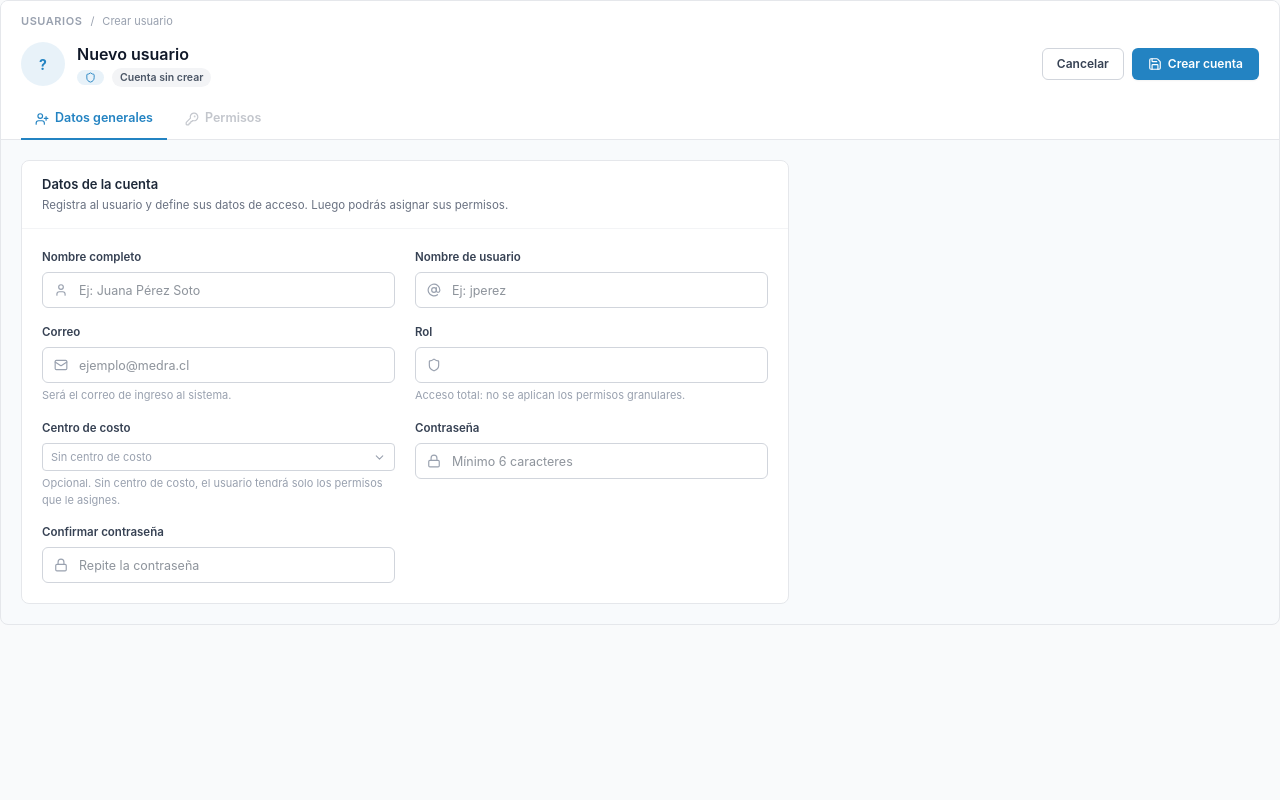
Test case: Crear Usuario (mismo marco que Editar usuario) › pide crear la cuenta antes de los permisos y avisa cambios sin guardar
Check: the heading "Nuevo usuario" is shown, box x1=77 y1=44 x2=189 y2=64
Check: the tab "Permisos" is disabled, box x1=171 y1=99 x2=275 y2=140
Type "Ana Pérez" into the field labelled "Nombre completo" at (218, 290), box x1=42 y1=272 x2=395 y2=308
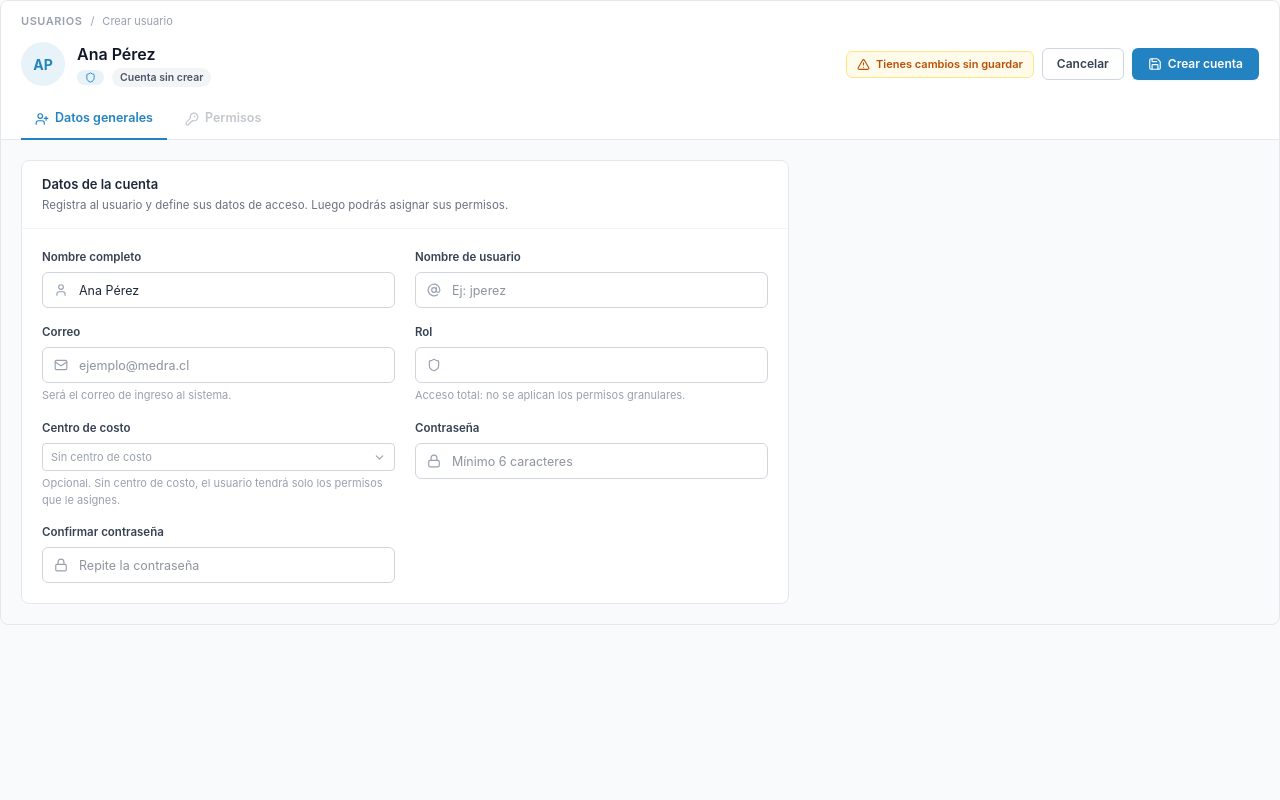
Check: the heading "Ana Pérez" is shown, box x1=77 y1=44 x2=156 y2=64
Check: the text "Tienes cambios sin guardar" is shown, box x1=846 y1=51 x2=1034 y2=78
Click the button "Cancelar" at (1083, 64), box x1=1042 y1=48 x2=1124 y2=80
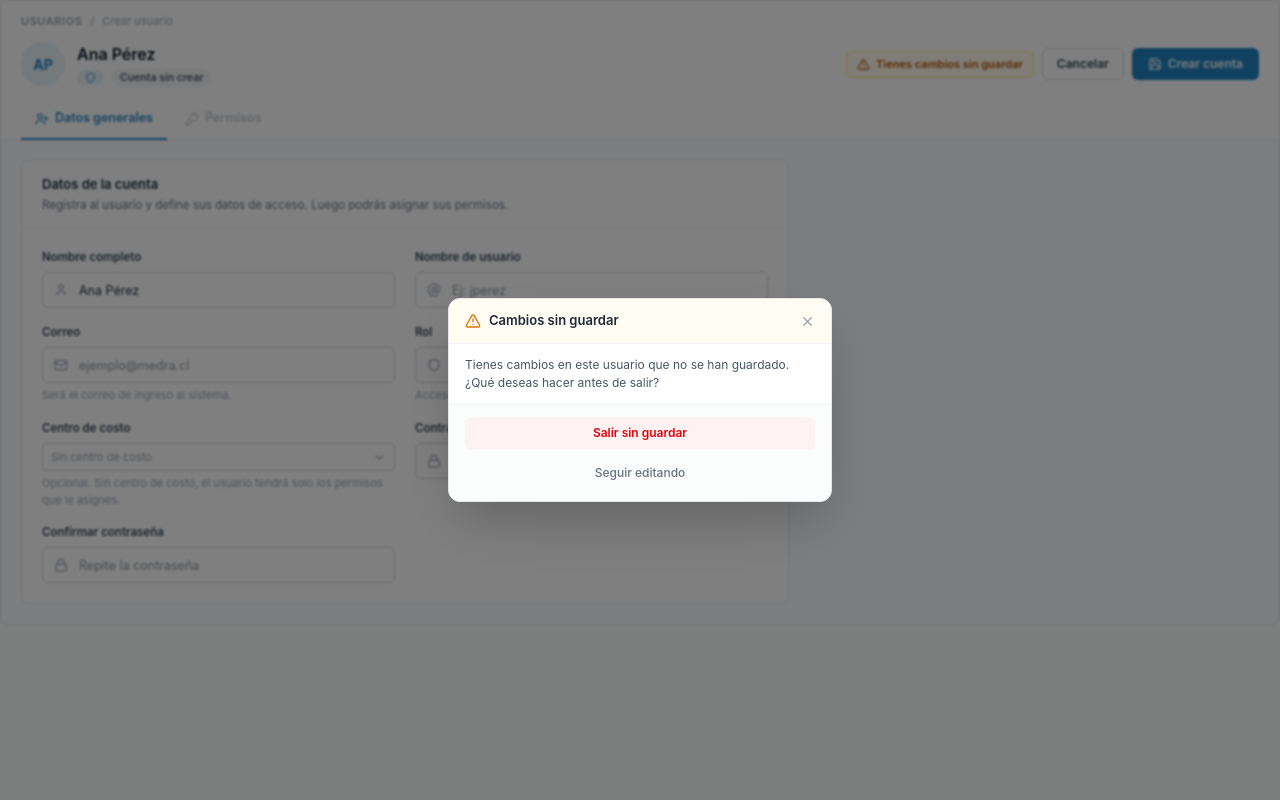
Check: the dialog shows "Cambios sin guardar", box x1=489 y1=312 x2=618 y2=328
Click the button "Salir sin guardar" at (640, 433), box x1=465 y1=417 x2=815 y2=449
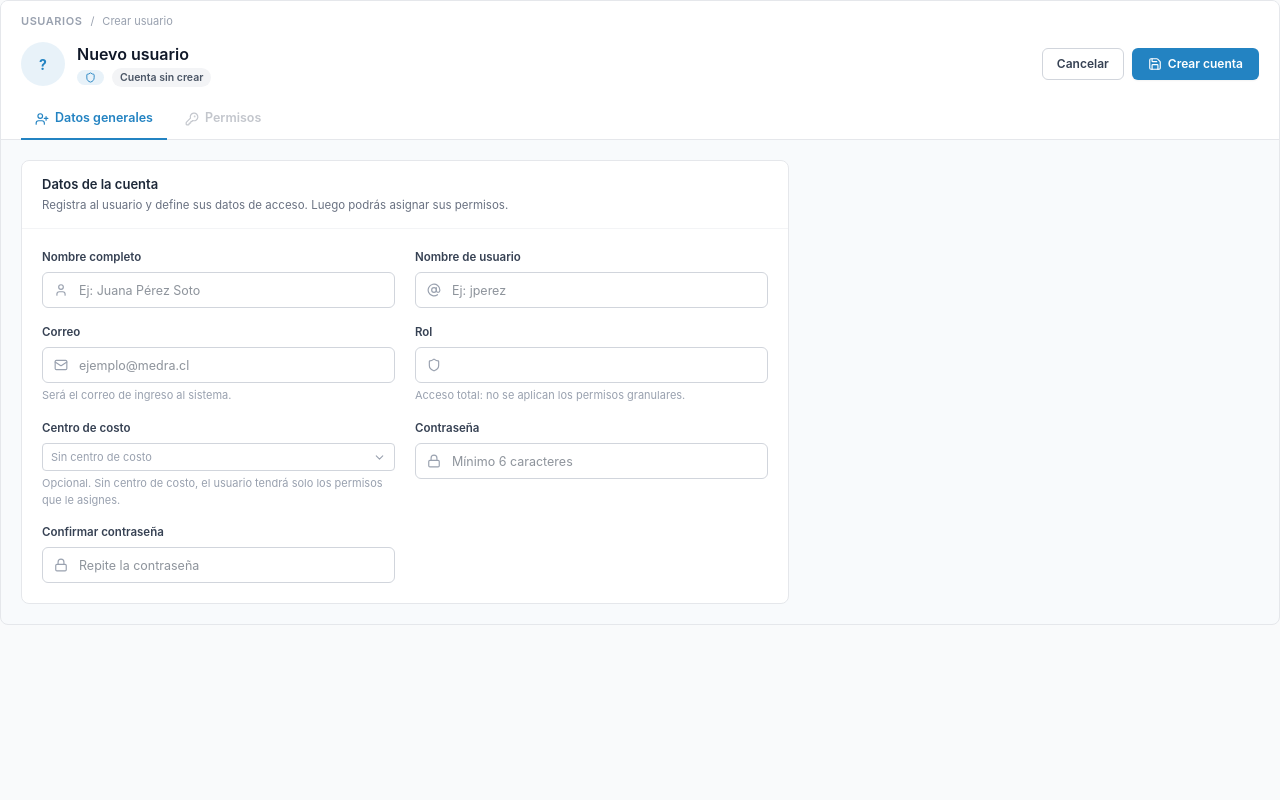
Check: the heading "Nuevo usuario" is shown, box x1=77 y1=44 x2=189 y2=64
Check: the text "Tienes cambios sin guardar" is gone
